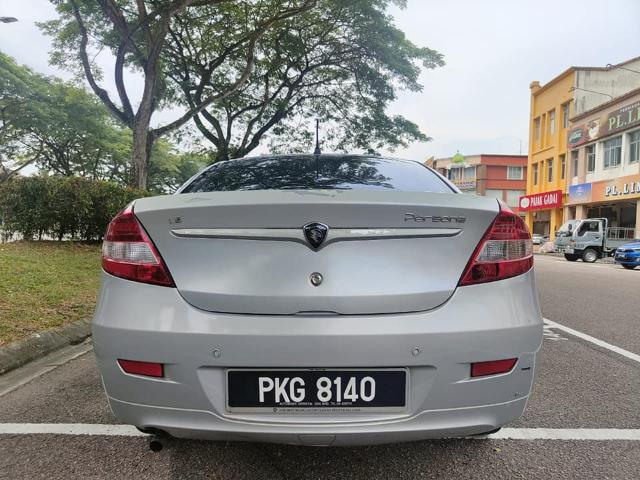License_Plate: (240, 374, 389, 409)
car: (96, 144, 550, 445)
